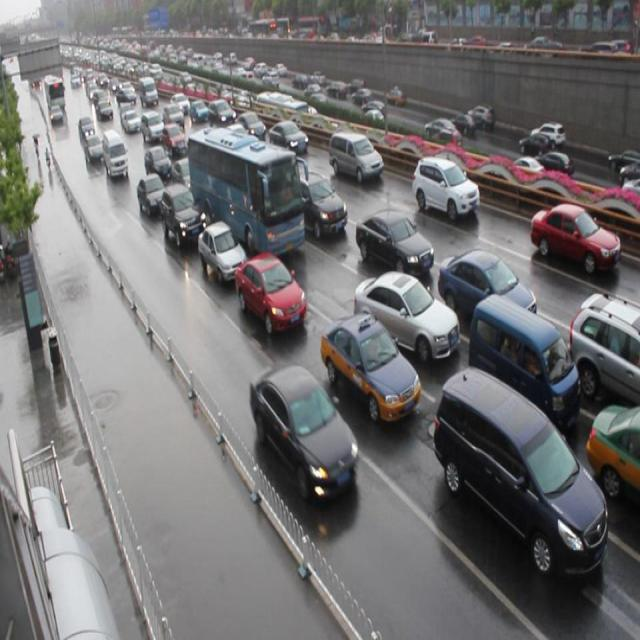car: (250, 359, 358, 503), (320, 318, 420, 428), (352, 276, 459, 368), (566, 297, 640, 408), (437, 253, 535, 335), (530, 202, 620, 274), (584, 408, 640, 515), (233, 255, 305, 335), (354, 214, 433, 280), (411, 154, 478, 218), (294, 176, 346, 242), (196, 224, 247, 284), (160, 186, 206, 250), (268, 119, 308, 155), (137, 173, 167, 216), (234, 110, 266, 141), (170, 161, 197, 197), (144, 149, 172, 183)
truck: (434, 370, 606, 582), (466, 297, 577, 432), (328, 128, 383, 180)
van: (190, 130, 304, 263)
